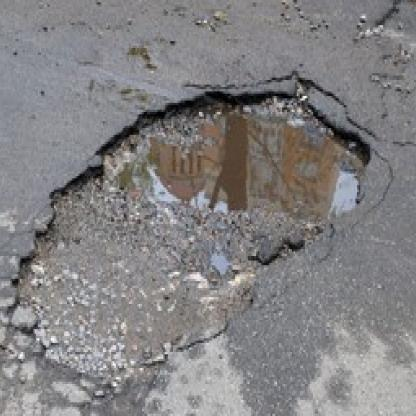pothole: (12, 85, 370, 382)
